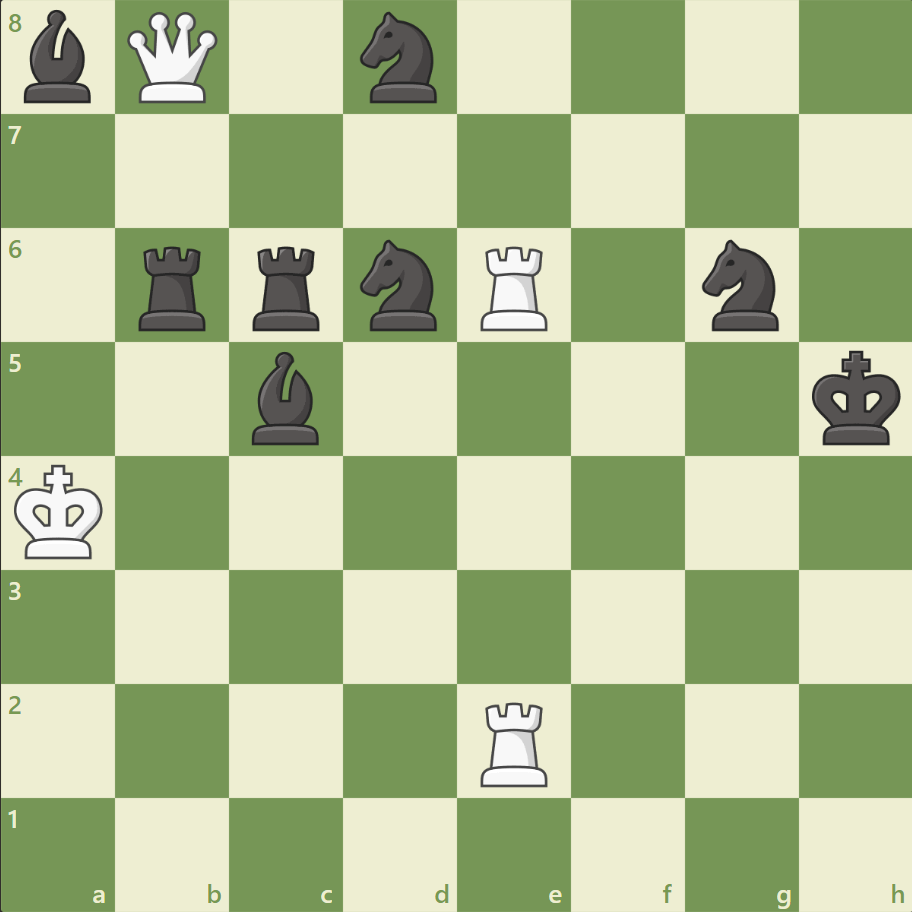K: (11, 458, 111, 566)
Q: (124, 9, 223, 108)
R: (473, 239, 556, 336), (473, 693, 556, 790)
b: (17, 6, 101, 109), (244, 347, 328, 449)
k: (806, 344, 906, 452)
n: (351, 7, 449, 110), (351, 234, 449, 337), (692, 234, 789, 337)
r: (246, 239, 329, 336), (133, 239, 215, 336)
